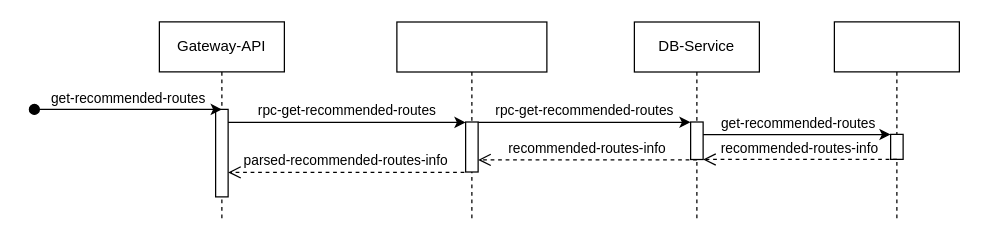
This 981x245 diagram has some shape labels left out. The box of each missing label's shape, as (x1, y1, x2, y2) in pixels:
Recommend-Service: (396, 21, 547, 222)
RouteDB: (833, 21, 959, 222)
